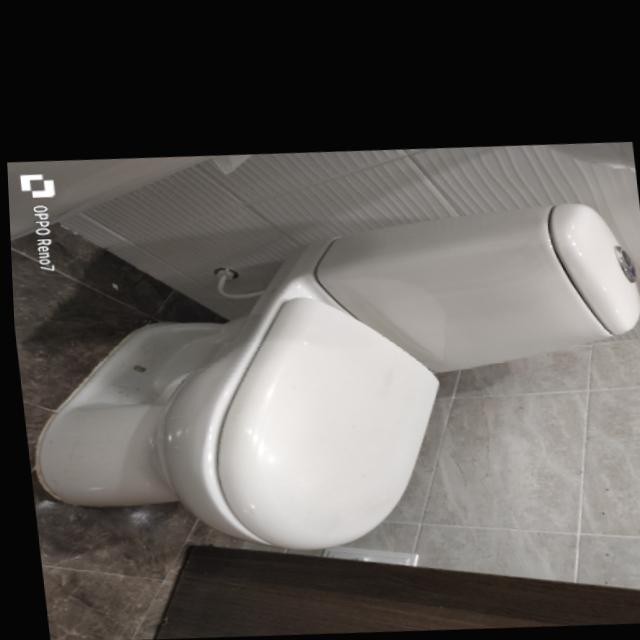toilet: (6, 176, 640, 576)
